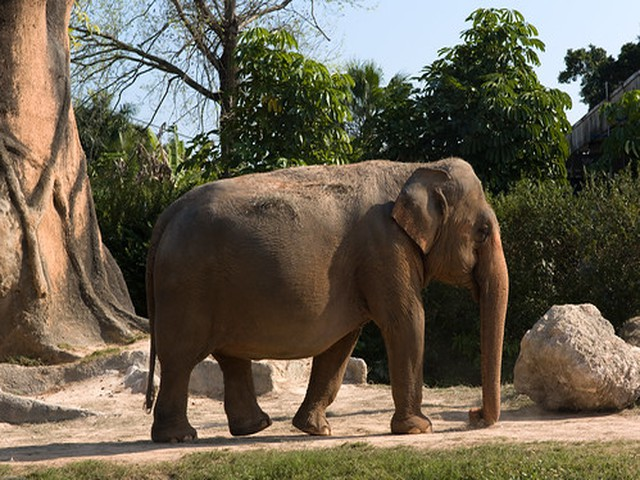Elephant: (134, 153, 515, 443)
